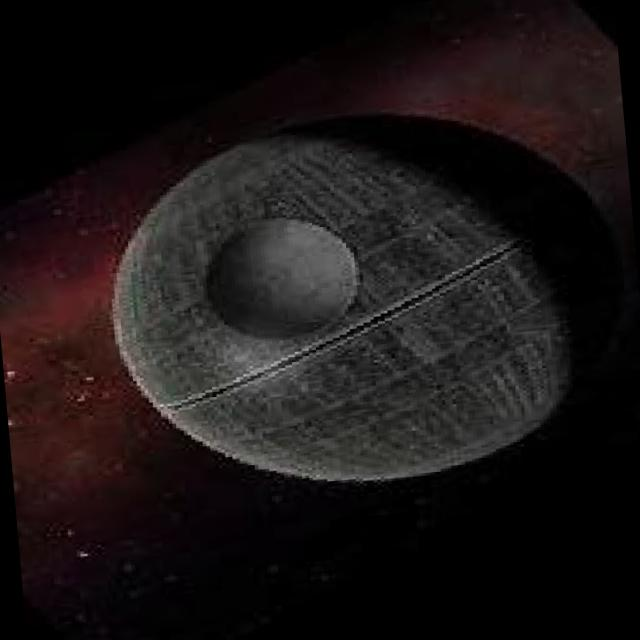Death Star: (87, 103, 590, 509)
